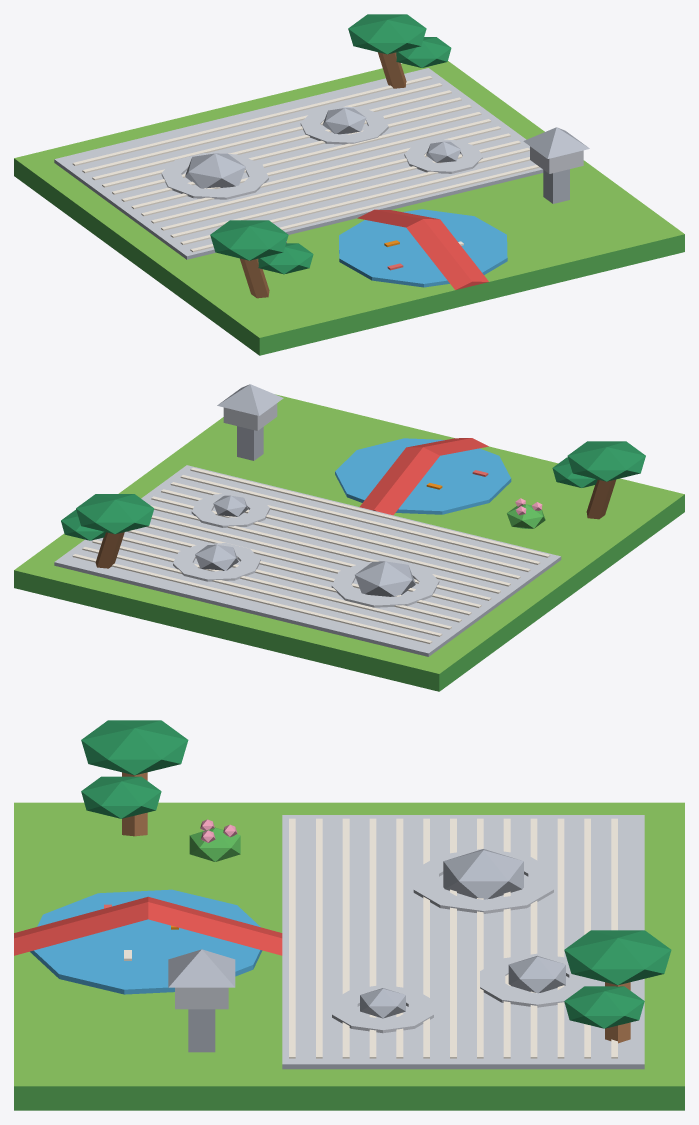
File: park_zen.glb
The picture shows the model from 3 angles, top to bottom: view 1: azimuth 30°, elevation 25°; view 2: azimuth 150°, elevation 25°; view 3: azimuth 270°, elevation 25°; orthographic projection. The views are drawn at different scales.
Parts seen in each view (by area): view 1: park_zen; view 2: park_zen; view 3: park_zen.
Part boxes in pixels (x1,y1,x2,y2): park_zen: (14, 14, 684, 355); park_zen: (14, 384, 684, 691); park_zen: (14, 720, 684, 1110).
Size of the model in its own units: 1 by 0.2 by 1.
